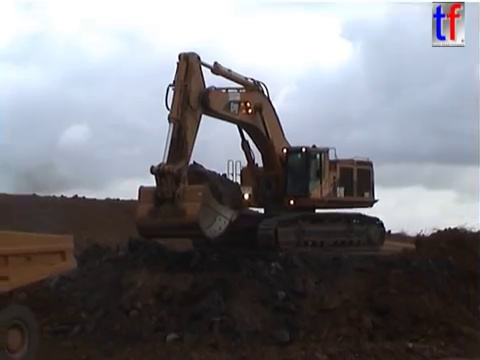excavator: (132, 48, 389, 257)
truck: (1, 225, 81, 360)
